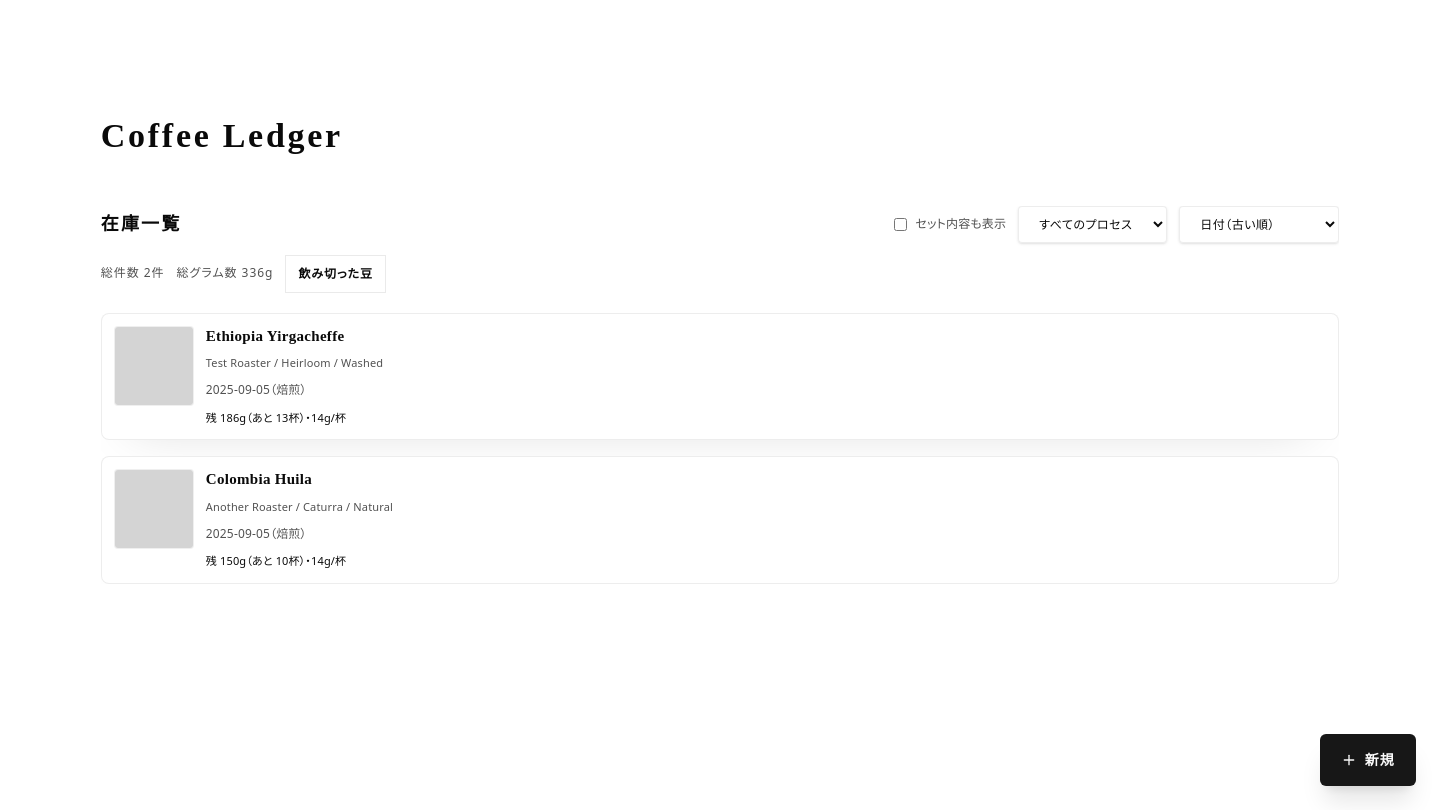
it: HomePage accessibility › announces how many bags a filter leaves behind
Check: the message named "在庫の集計" shows "総件数 2件", box [101,264,273,284]
Select "Natural" in the dropdown named "プロセスで絞り込む" at (1093, 224), box [1018,206,1167,243]
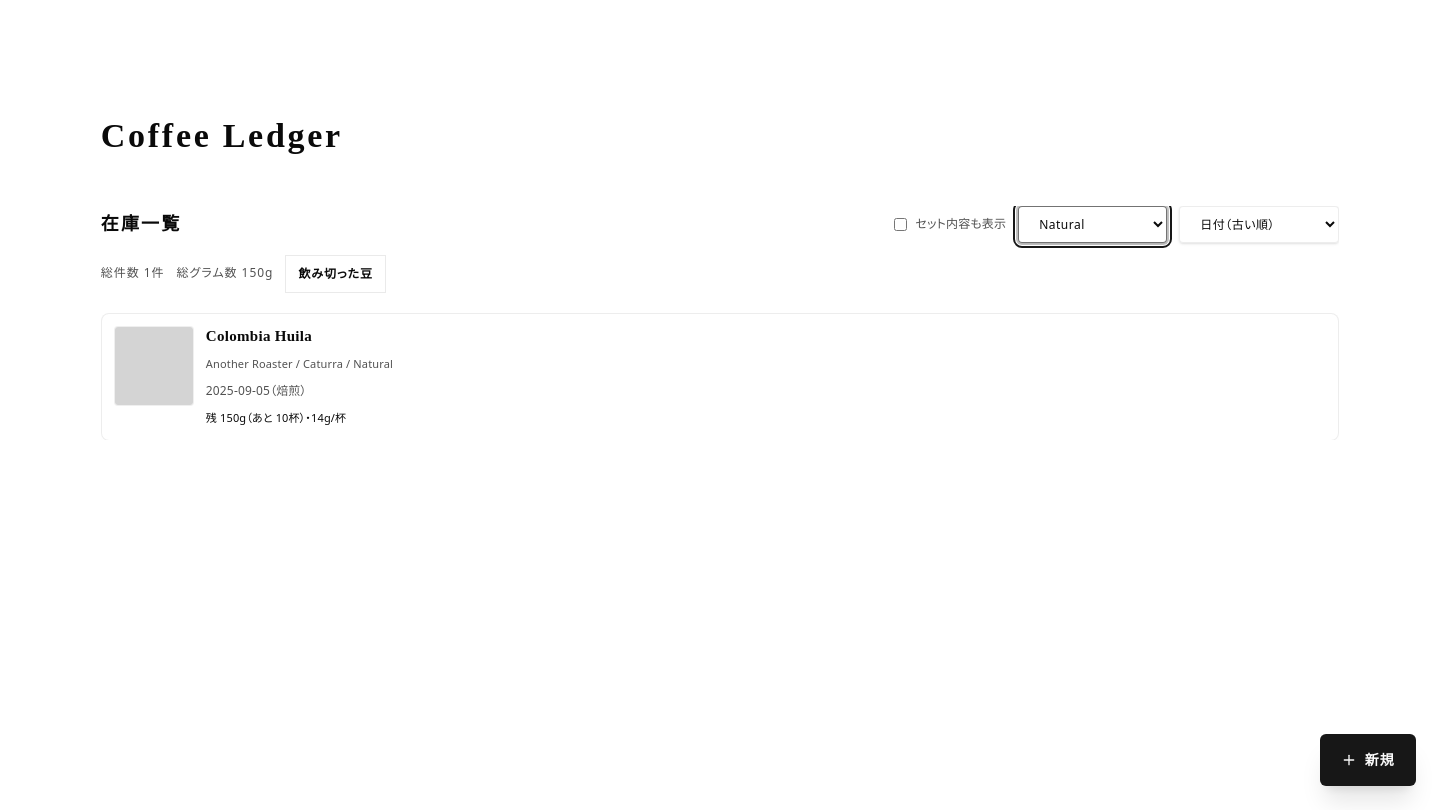
Check: the message named "在庫の集計" shows "総件数 1件", box [101,264,273,284]
